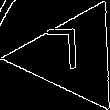L_S: (53, 31, 91, 82)
